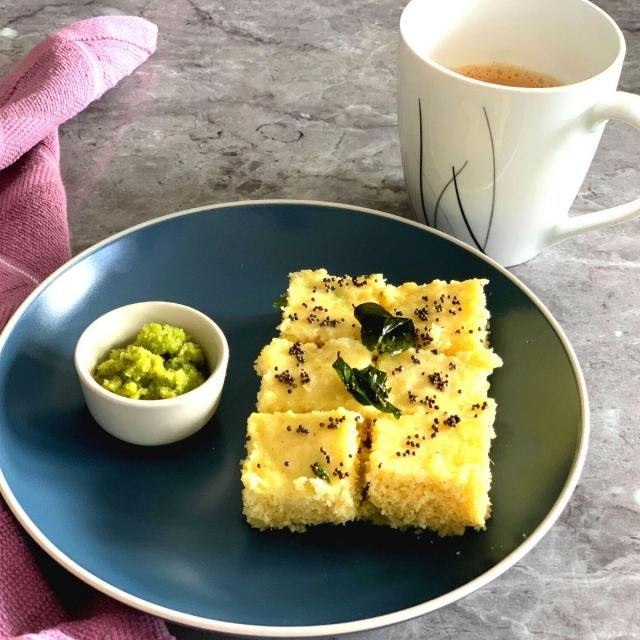dhokla: (252, 262, 496, 535)
